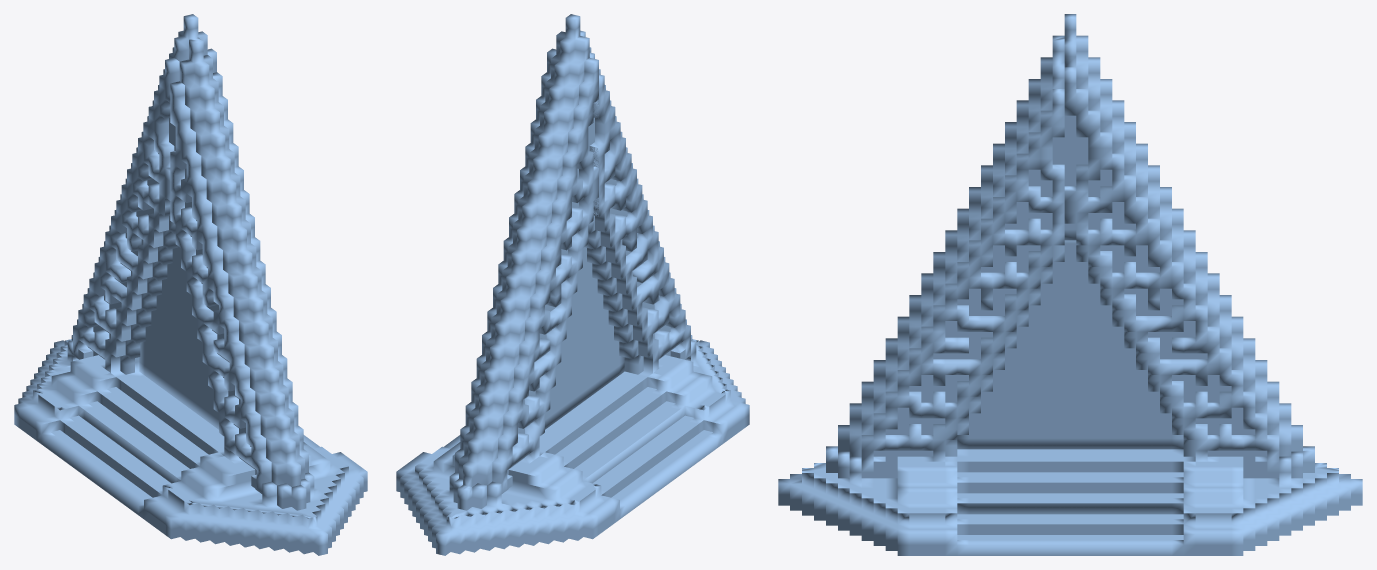
File: Nether_Portal.glb
The picture shows the model from 3 angles, left to right: view 1: azimuth 30°, elevation 25°; view 2: azimuth 150°, elevation 25°; view 3: azimuth 270°, elevation 25°; orthographic projection. The views are drawn at different scales.
Visible parts, largest first — view 1: Plane001, Object004, Plane002, Object001; view 2: Plane001, Object004, Plane002, Object001; view 3: Plane001, Object004, Plane002, Object001.
Part boxes in pixels (left/top/right/bottom): Plane001: left=14, top=48, right=367, bottom=555; Object004: left=19, top=14, right=361, bottom=534; Plane002: left=139, top=246, right=218, bottom=429; Object001: left=87, top=117, right=261, bottom=493; Plane001: left=396, top=48, right=749, bottom=555; Object004: left=402, top=14, right=744, bottom=534; Plane002: left=545, top=247, right=624, bottom=429; Object001: left=502, top=117, right=676, bottom=493; Plane001: left=778, top=67, right=1362, bottom=555; Object004: left=826, top=14, right=1314, bottom=555; Plane002: left=957, top=240, right=1183, bottom=449; Object001: left=861, top=115, right=1279, bottom=478.
Size of the model in its own units: 21 by 45 by 49.
